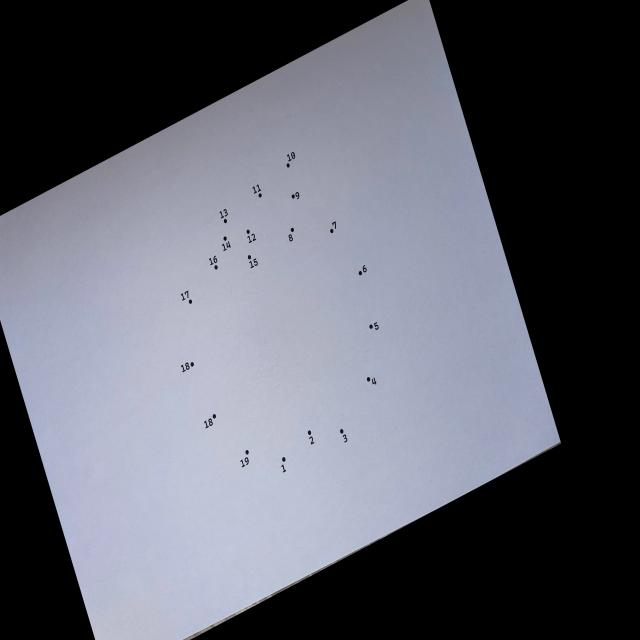Dot: (340, 428, 344, 434), (212, 413, 216, 419), (258, 193, 262, 198), (223, 236, 227, 241), (369, 324, 373, 329), (282, 457, 286, 462), (190, 362, 194, 367), (214, 265, 218, 270), (286, 163, 290, 167), (245, 450, 249, 454), (367, 377, 370, 382), (308, 430, 311, 435), (189, 299, 192, 304), (224, 219, 227, 223), (247, 230, 250, 234), (291, 228, 294, 232), (331, 229, 334, 233), (359, 271, 362, 275), (248, 255, 251, 259), (292, 194, 294, 199)
DotNumber: (204, 413, 216, 430), (240, 449, 250, 468), (286, 151, 296, 168), (180, 361, 194, 373), (180, 290, 192, 304), (208, 255, 218, 270), (219, 208, 228, 224), (222, 236, 231, 252), (252, 184, 262, 198), (246, 230, 256, 243), (248, 255, 258, 268), (340, 428, 348, 442), (359, 264, 367, 276), (281, 457, 287, 473), (330, 221, 337, 234), (308, 430, 314, 445), (369, 322, 379, 330), (367, 377, 377, 385), (292, 191, 300, 200), (289, 228, 294, 242)
Number: (286, 152, 296, 162), (252, 184, 262, 194), (208, 256, 218, 266), (204, 418, 213, 429), (219, 209, 228, 219), (222, 241, 231, 251), (240, 457, 249, 467), (181, 362, 190, 372), (249, 258, 258, 268), (181, 290, 189, 301), (248, 234, 256, 244), (342, 434, 348, 443), (309, 436, 315, 445), (281, 464, 286, 473), (288, 234, 294, 241), (295, 192, 300, 200), (362, 264, 367, 272), (374, 322, 379, 330), (332, 221, 336, 229), (372, 377, 376, 385)
